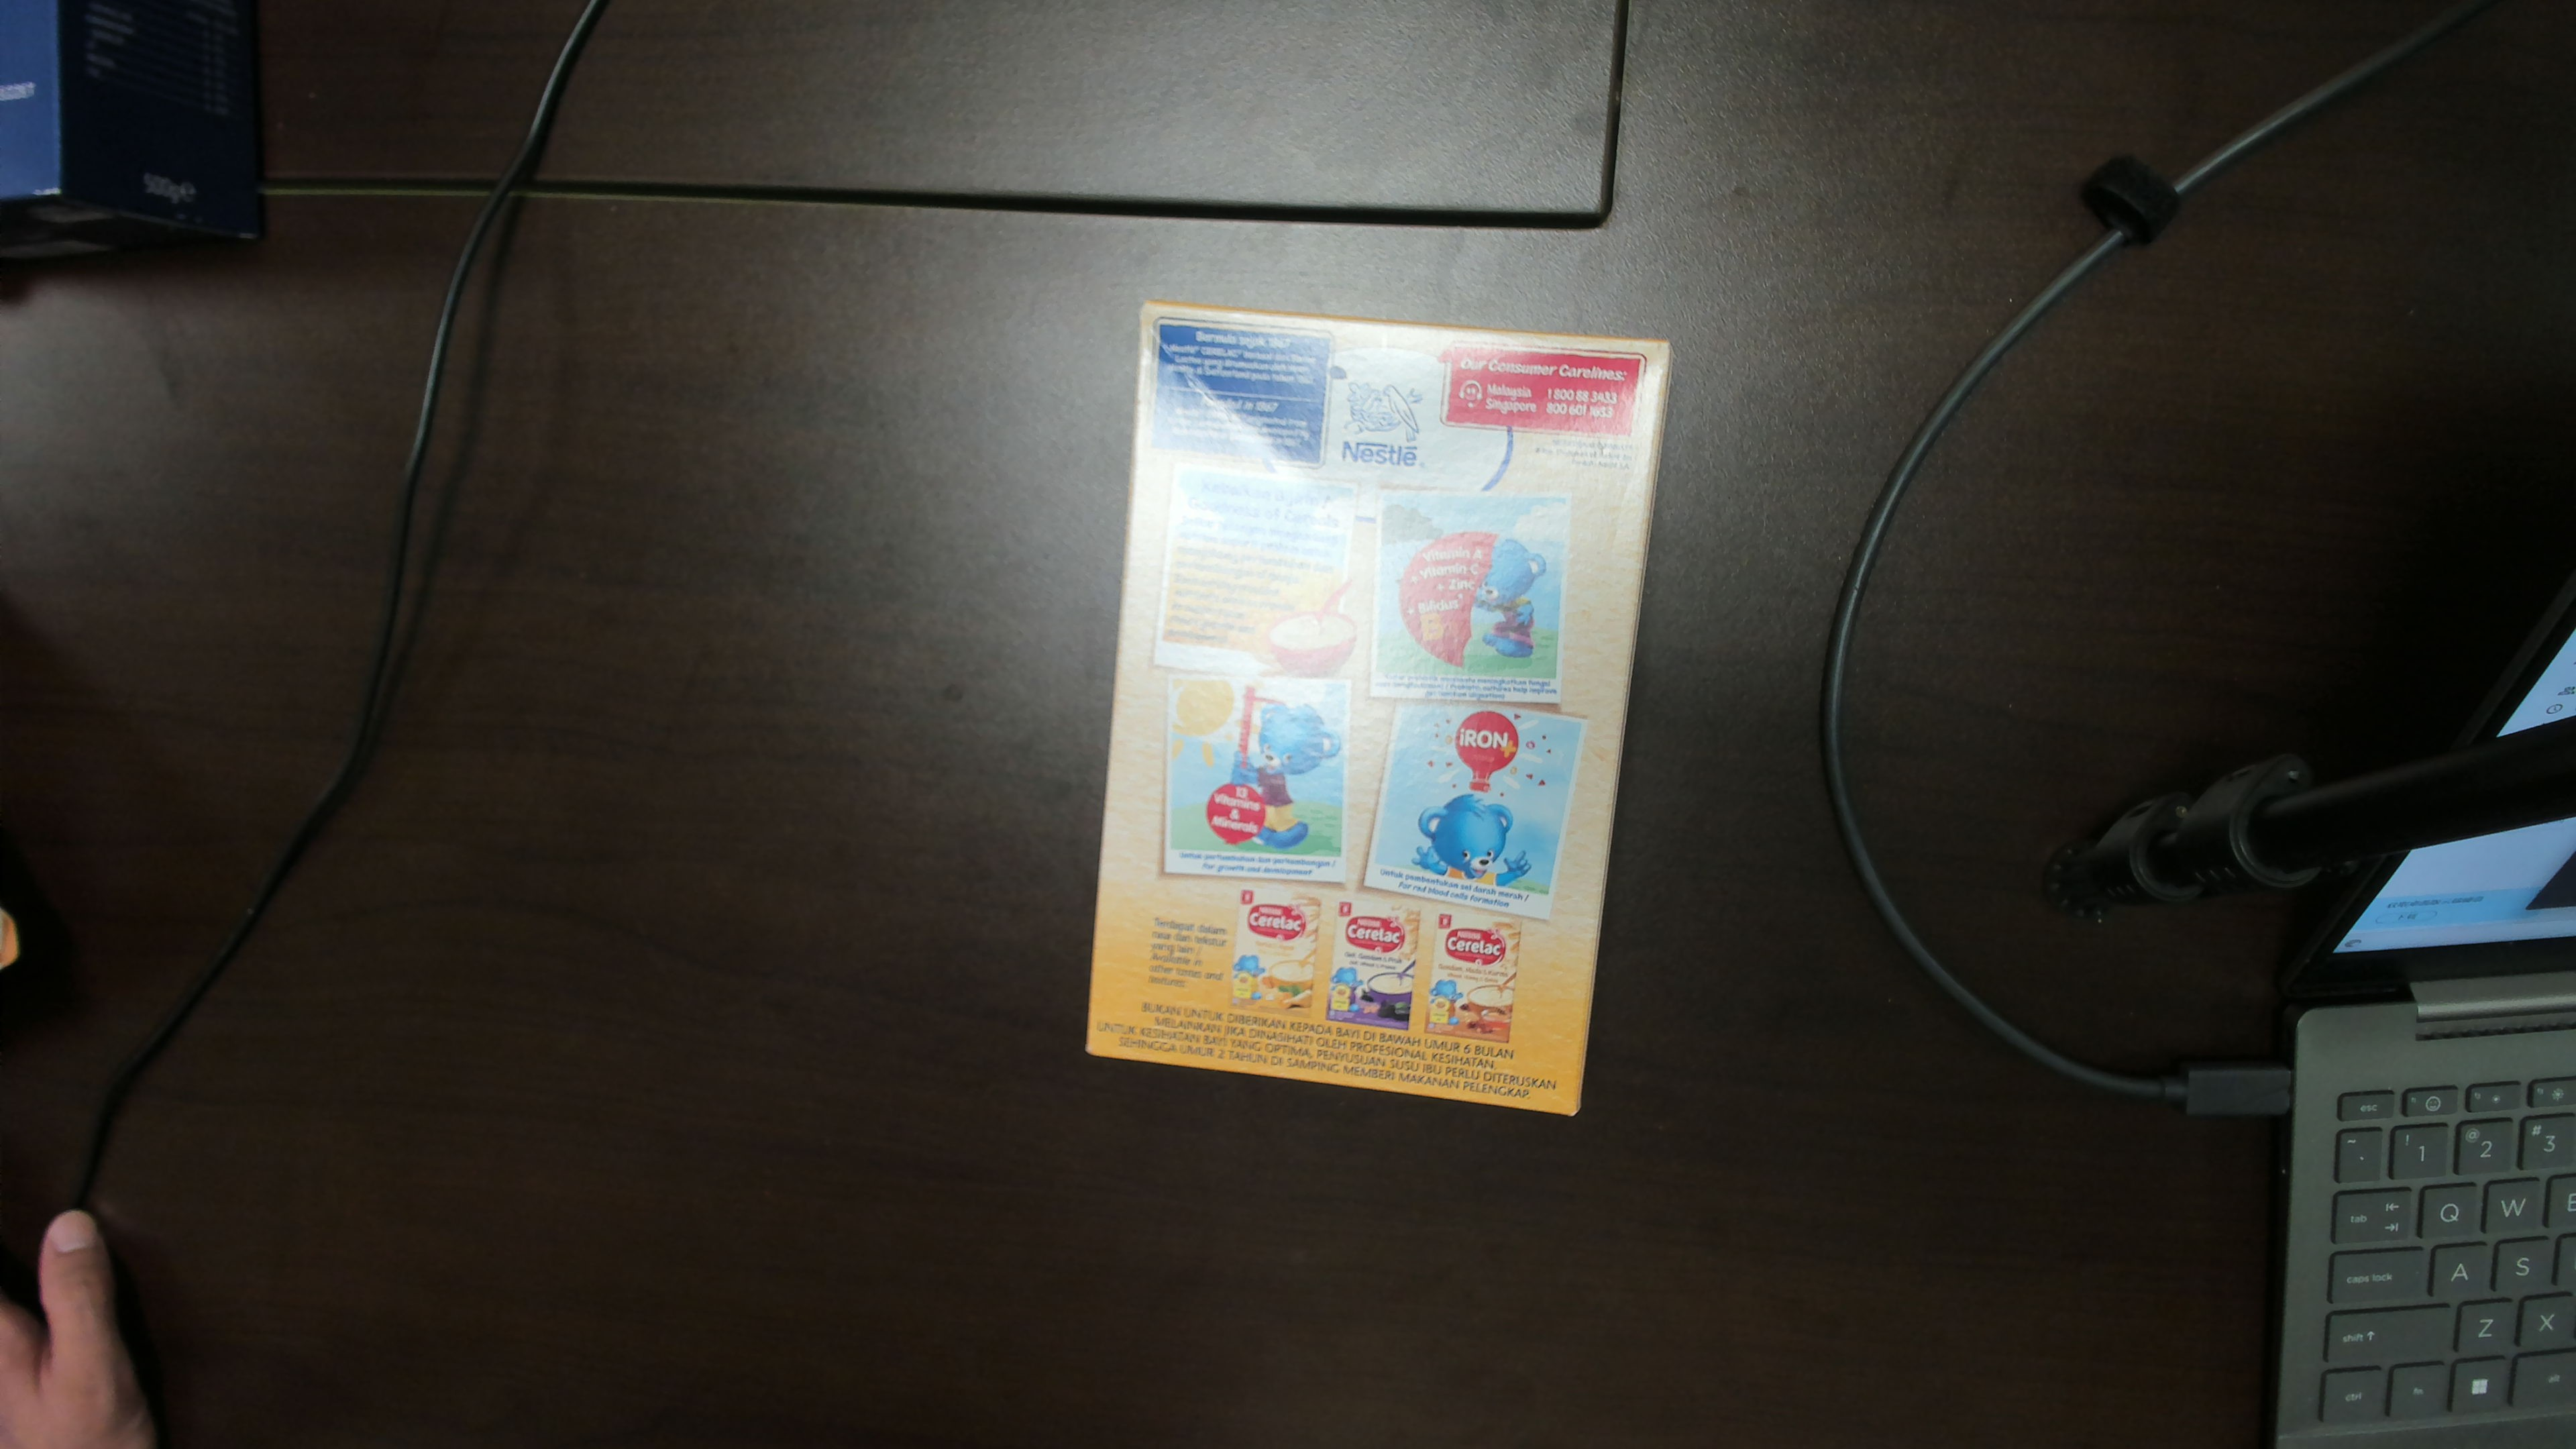Babyfood_200-299g_Halal_NonHealthy: (1145, 370, 1571, 1070)
